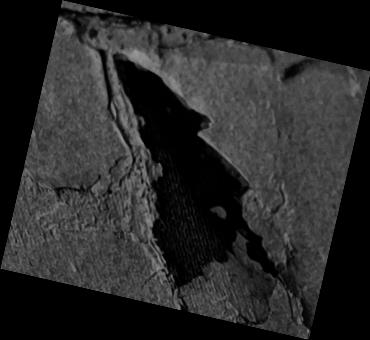crack: (0, 1, 370, 340)
